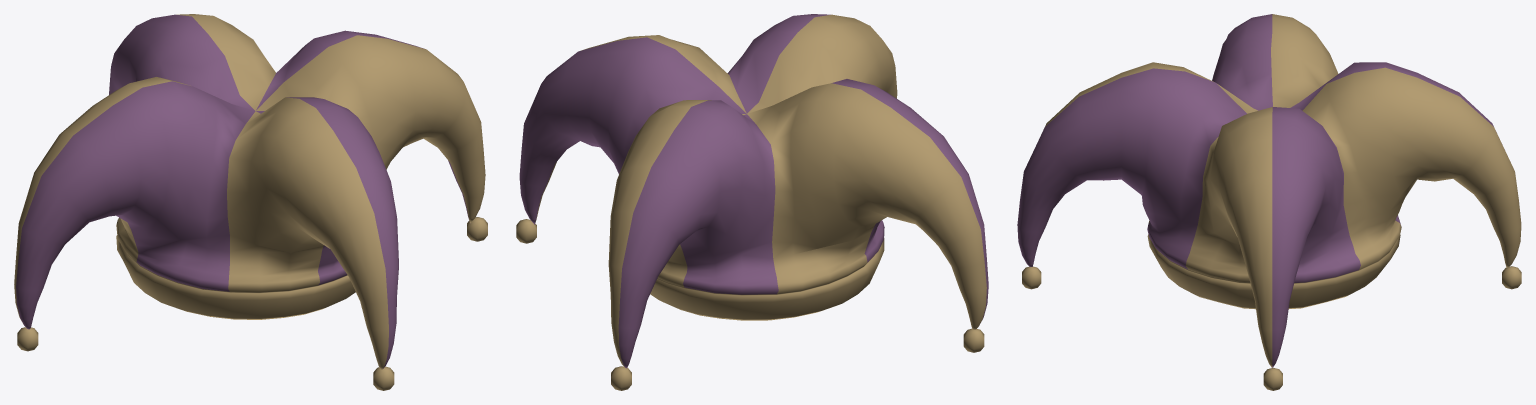
File: Hat_Jester.fbx
The picture shows the model from 3 angles, left to right: view 1: azimuth 30°, elevation 25°; view 2: azimuth 150°, elevation 25°; view 3: azimuth 270°, elevation 25°; orthographic projection. The views are drawn at different scales.
Parts seen in each view (by area): view 1: JesterHat; view 2: JesterHat; view 3: JesterHat.
Boxes of the visible parts, bbox=[...] form: JesterHat: bbox=[14, 14, 487, 390]; JesterHat: bbox=[516, 14, 988, 390]; JesterHat: bbox=[1017, 14, 1521, 390].
Bounding box in the file's own units: 401 × 191 × 397.
